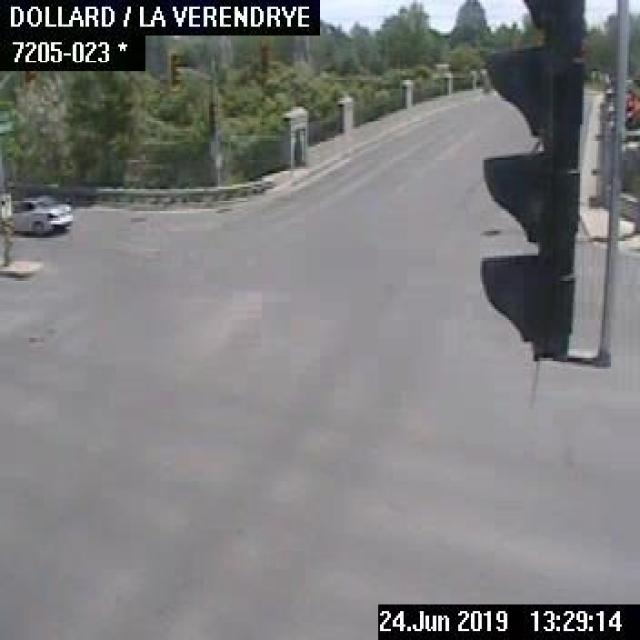vehicle: (0, 193, 75, 238)
